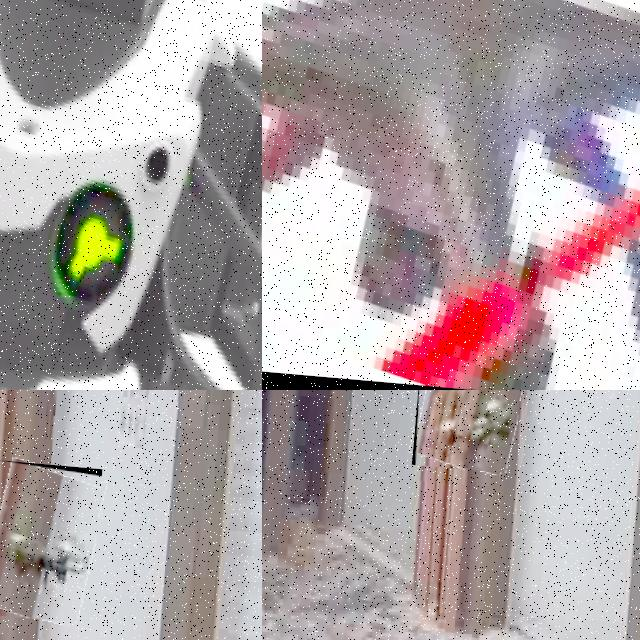0: (0, 459, 102, 623), (411, 390, 522, 473)
drone: (262, 0, 640, 390), (0, 0, 262, 390)
